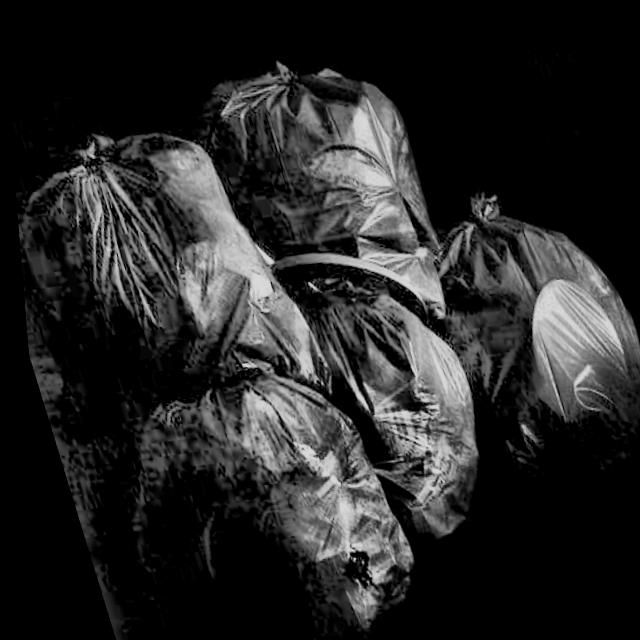Plastic: (5, 80, 329, 449), (76, 329, 448, 640), (391, 133, 640, 552), (185, 14, 463, 327)
